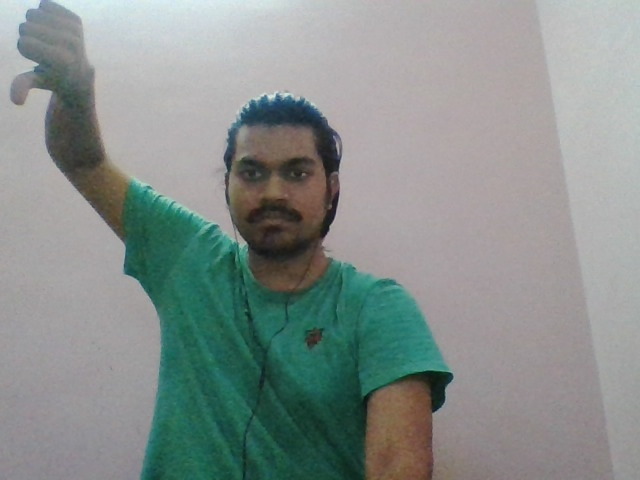ThumbsDown: (8, 1, 95, 115)
